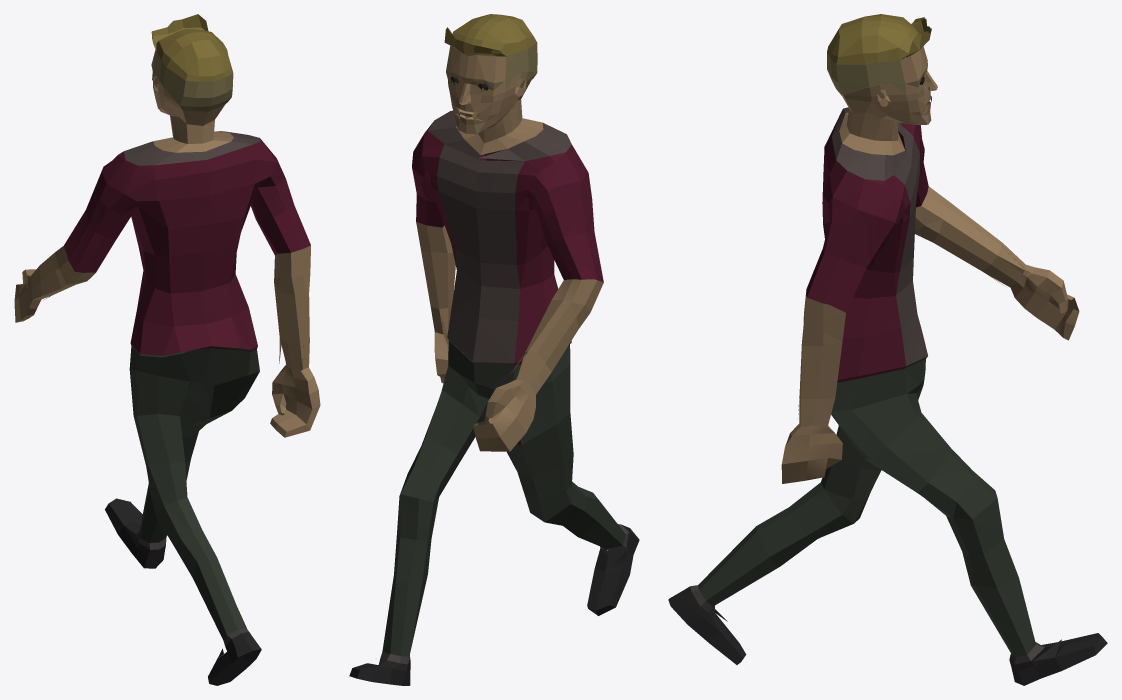
Rendered from person_2_w3.fbx.
3 renders of one model, left to right at view 1: azimuth 30°, elevation 25°; view 2: azimuth 150°, elevation 25°; view 3: azimuth 270°, elevation 25°, orthographic. The views are drawn at different scales.
Visible parts, largest first — view 1: BaseHuman; view 2: BaseHuman; view 3: BaseHuman.
Part boxes in pixels (bbox=[...]): BaseHuman: bbox=[14, 14, 320, 685]; BaseHuman: bbox=[349, 14, 639, 685]; BaseHuman: bbox=[668, 14, 1107, 685].
Size of the model in its own units: 0.3504 by 1 by 0.6004.
